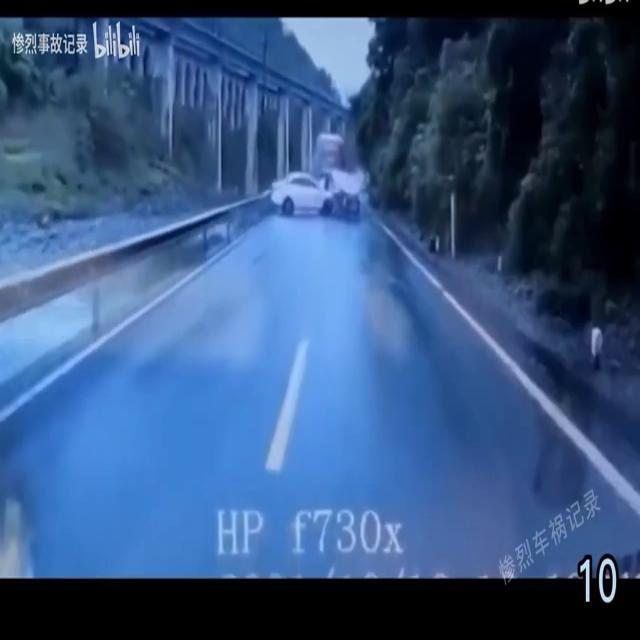multiple_accident: (238, 145, 413, 265)
